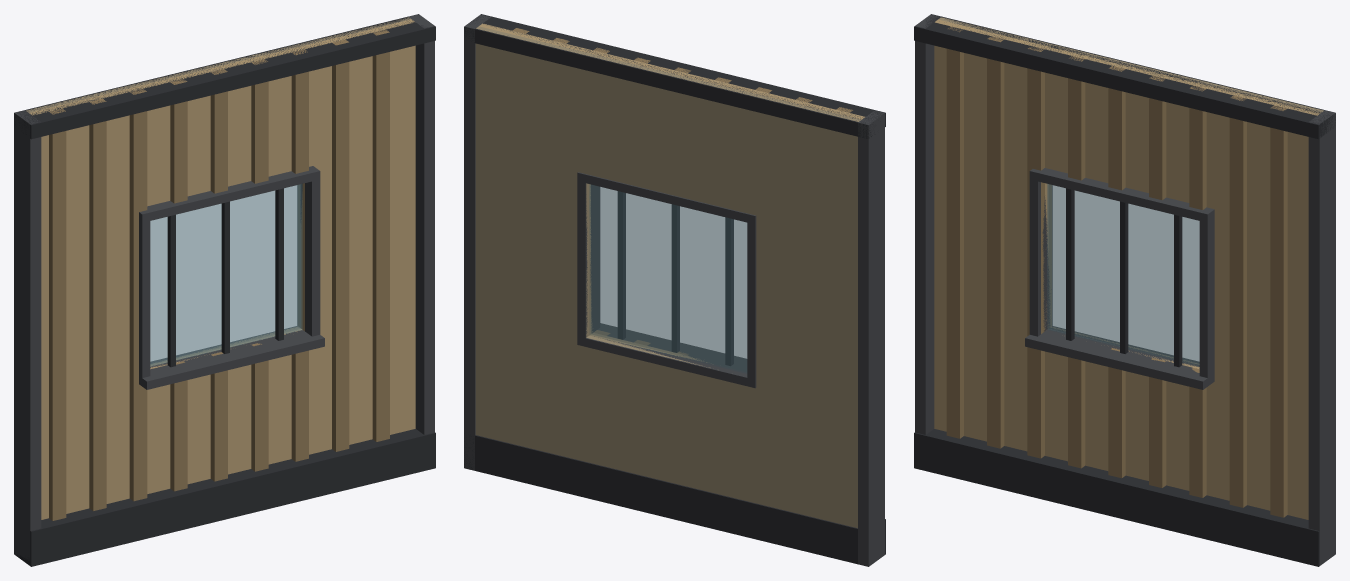
Rendered from SM_Bld_Wall_Metal_Window_01.glb.
3 views of the same model, side by side, from view 1: azimuth 30°, elevation 25°; view 2: azimuth 150°, elevation 25°; view 3: azimuth 330°, elevation 25° (orthographic).
Visible parts, largest first — view 1: SM_Bld_Wall_Metal_Window_01; view 2: SM_Bld_Wall_Metal_Window_01; view 3: SM_Bld_Wall_Metal_Window_01.
Boxes of the visible parts, left/top/right/bottom form: SM_Bld_Wall_Metal_Window_01: left=14, top=14, right=435, bottom=566; SM_Bld_Wall_Metal_Window_01: left=464, top=14, right=885, bottom=566; SM_Bld_Wall_Metal_Window_01: left=914, top=14, right=1335, bottom=566.
Size of the model in its own units: 3 by 3.13 by 0.25.
Materials: 2 (2 with a texture image).
